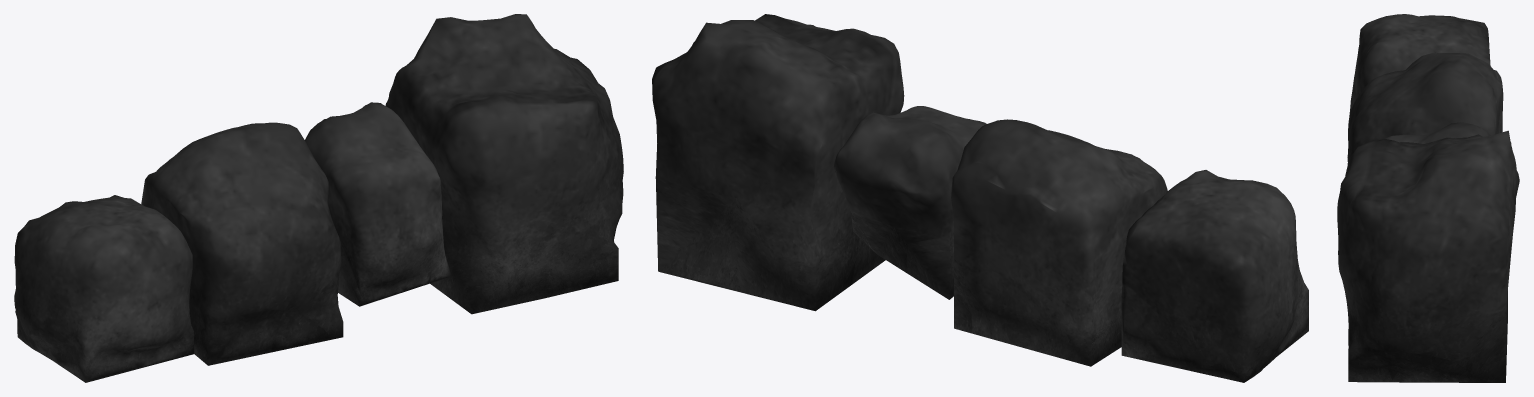
File: HellWall.fbx
3 renders of one model, left to right at view 1: azimuth 30°, elevation 25°; view 2: azimuth 150°, elevation 25°; view 3: azimuth 270°, elevation 25°, orthographic. The views are drawn at different scales.
Parts seen in each view (by area): view 1: Cube.003; view 2: Cube.003; view 3: Cube.003.
Part boxes in pixels (x1,y1,x2,y2): Cube.003: (14,14,623,382); Cube.003: (652,14,1308,382); Cube.003: (1337,14,1519,382).
Bounding box in the file's own units: 216 × 80.46 × 63.89.
